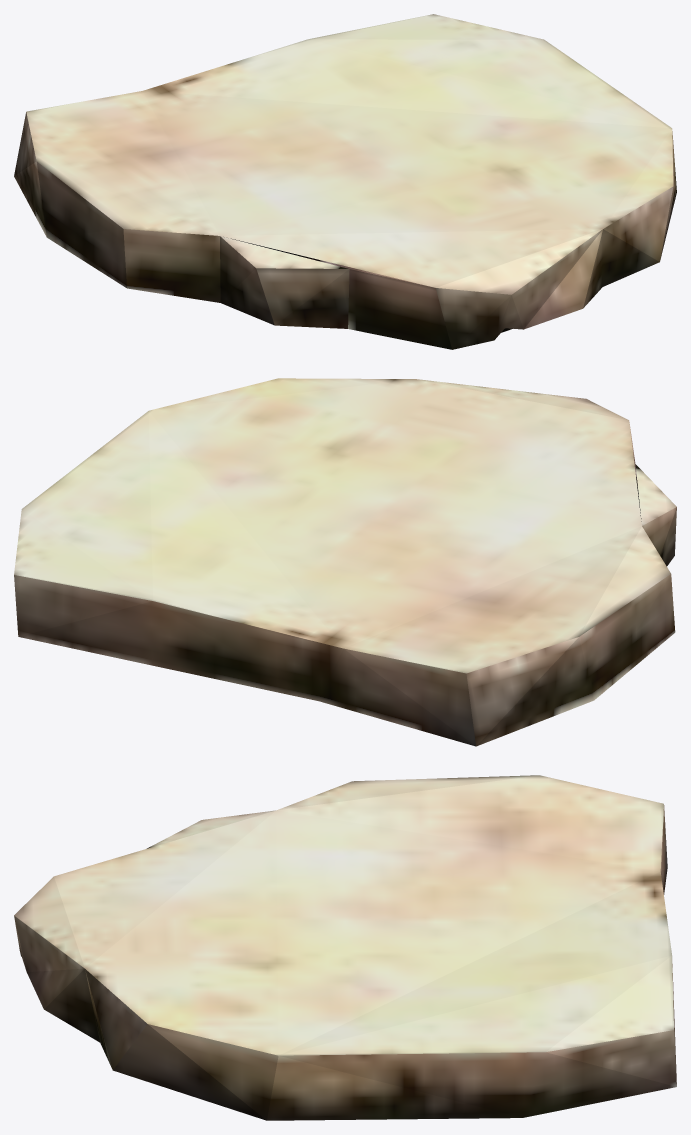
Rendered from ga3_rock_c_lod1.glb.
3 views of the same model, one above another, from view 1: azimuth 30°, elevation 25°; view 2: azimuth 150°, elevation 25°; view 3: azimuth 270°, elevation 25° (orthographic). The views are drawn at different scales.
Visible parts, largest first — view 1: ga3_rock_c_lod1; view 2: ga3_rock_c_lod1; view 3: ga3_rock_c_lod1.
Part boxes in pixels (<box>): ga3_rock_c_lod1: <box>14,14,676,349</box>; ga3_rock_c_lod1: <box>14,378,676,746</box>; ga3_rock_c_lod1: <box>14,775,676,1120</box>.
Bounding box in the file's own units: 0.9805 × 0.1224 × 0.9966.
Materials: 1 (1 with a texture image).
